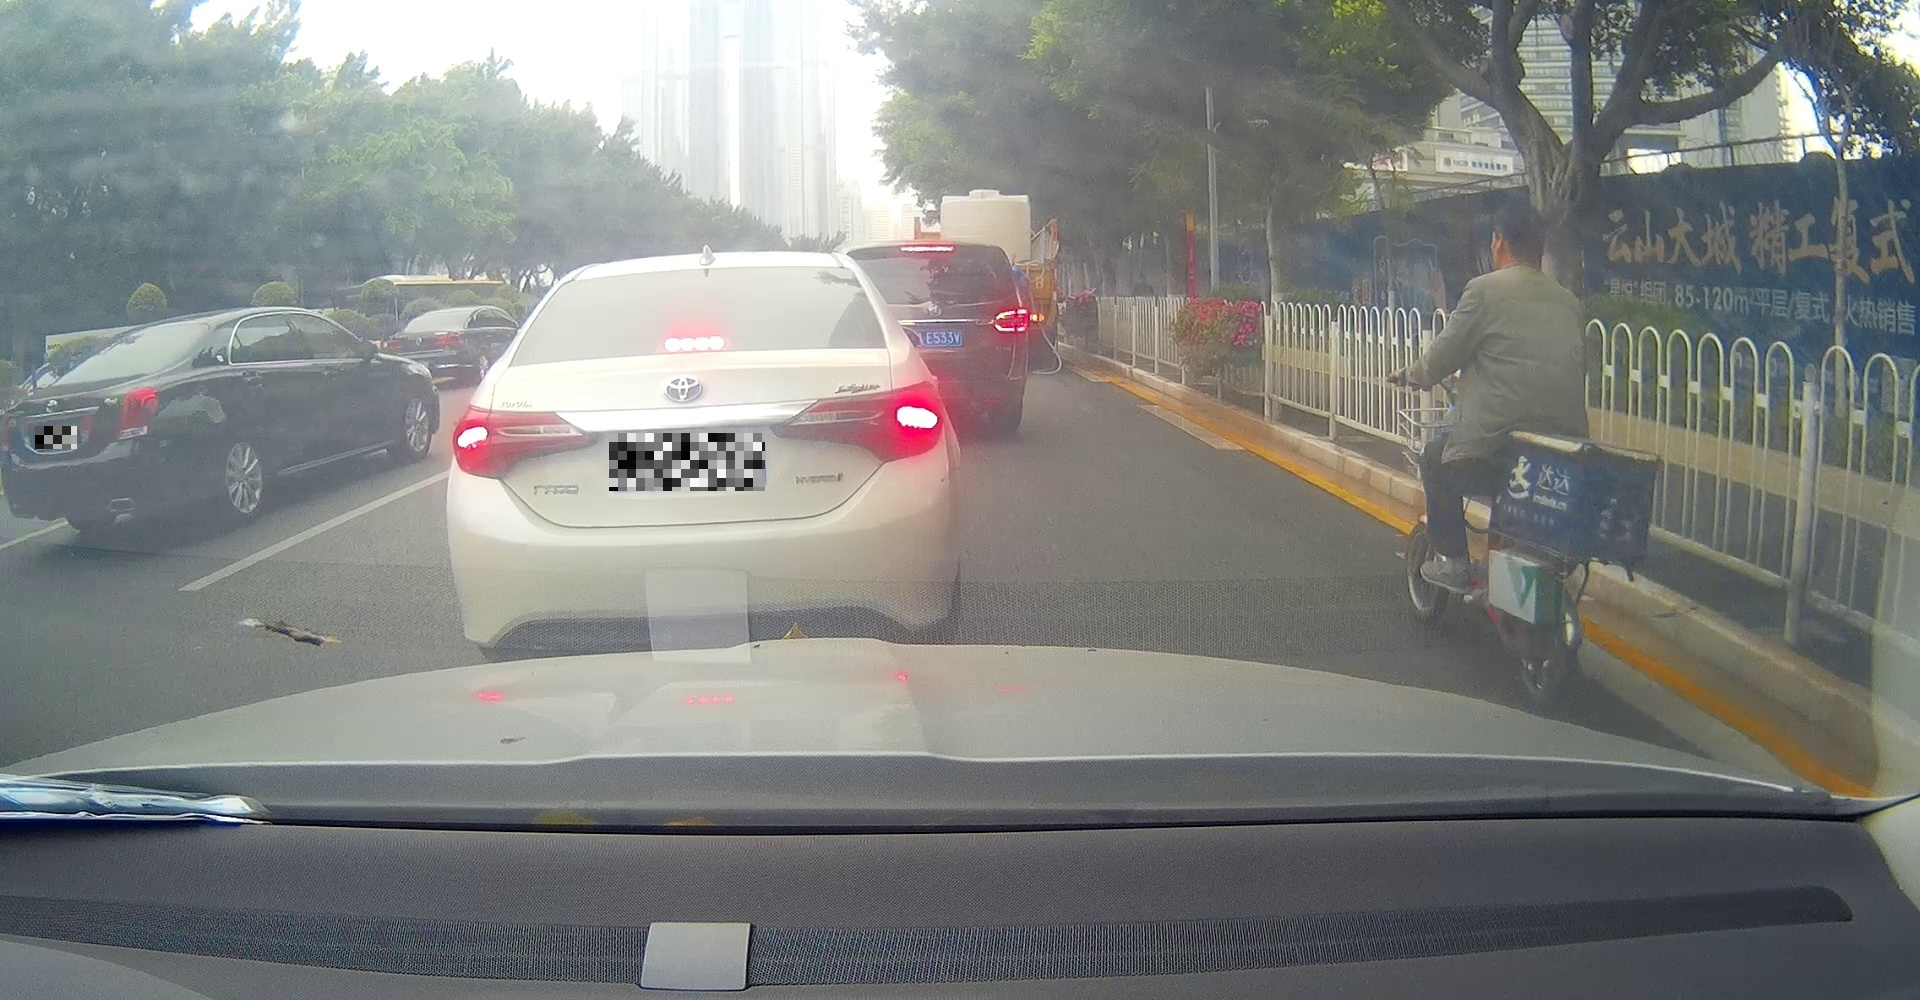L_light: (451, 402, 598, 478), (1, 412, 20, 452), (382, 339, 403, 350)
R_light: (770, 379, 943, 459), (108, 388, 159, 438), (432, 332, 463, 345)
T_light: (664, 335, 725, 352), (104, 327, 143, 338), (438, 312, 451, 315)
day-brake: (444, 253, 952, 665)
day-no: (0, 311, 216, 536), (378, 307, 475, 386)
plate_1: (36, 426, 77, 449)
plate_2: (610, 433, 764, 491)
